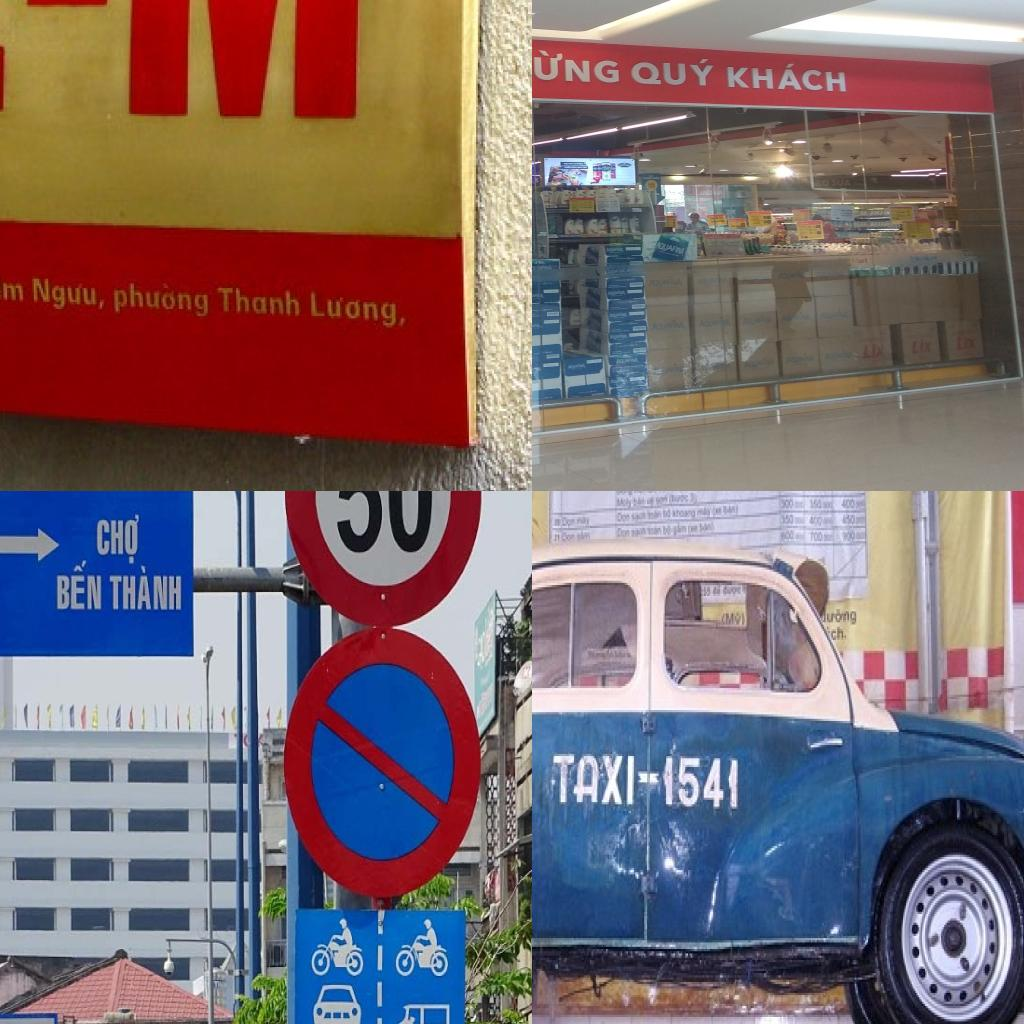text: (0, 0, 376, 125), (336, 491, 434, 558), (552, 756, 635, 809), (724, 62, 852, 96), (310, 288, 408, 332), (663, 756, 741, 811), (113, 281, 211, 323), (109, 563, 182, 615), (532, 44, 623, 85), (32, 274, 107, 316), (217, 284, 304, 320), (627, 56, 718, 89), (54, 557, 104, 615), (94, 512, 141, 566), (0, 271, 26, 304), (652, 362, 688, 378), (827, 609, 858, 627), (654, 241, 686, 257), (859, 342, 885, 359), (651, 320, 686, 332), (909, 339, 935, 355), (698, 317, 732, 329), (648, 277, 684, 288), (777, 270, 810, 282), (784, 354, 818, 365), (739, 272, 773, 283), (954, 334, 977, 350), (742, 358, 776, 368), (696, 276, 730, 286), (831, 176, 853, 188), (638, 772, 660, 784), (830, 627, 847, 642), (809, 532, 824, 546), (614, 357, 640, 365), (809, 515, 824, 528), (782, 515, 796, 528), (813, 178, 831, 188), (809, 498, 824, 510), (608, 312, 630, 320), (842, 498, 856, 510), (521, 665, 532, 680), (607, 290, 627, 298), (606, 247, 626, 254), (609, 334, 629, 341), (850, 257, 870, 264), (567, 364, 587, 370), (532, 292, 545, 301), (824, 534, 834, 544), (856, 532, 866, 542), (532, 323, 544, 331), (796, 517, 806, 526), (532, 366, 542, 373)
